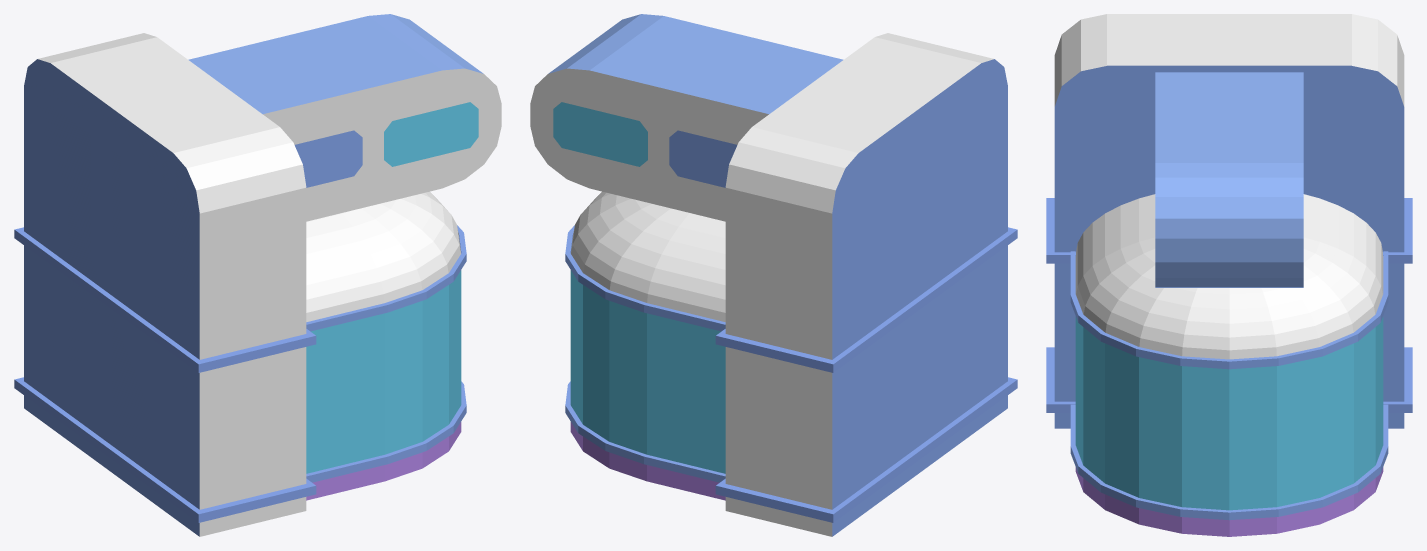
Rendered from Building_041.fbx.
3 views of the same model, side by side, from view 1: azimuth 30°, elevation 25°; view 2: azimuth 150°, elevation 25°; view 3: azimuth 270°, elevation 25° (orthographic).
Visible parts, largest first — view 1: Building_041; view 2: Building_041; view 3: Building_041.
Part boxes in pixels (x1=…): Building_041: x1=14, y1=14, x2=501, y2=536; Building_041: x1=530, y1=14, x2=1017, y2=536; Building_041: x1=1046, y1=14, x2=1412, y2=536.
Bounding box in the file's own units: 23.87 × 23.24 × 21.28.
